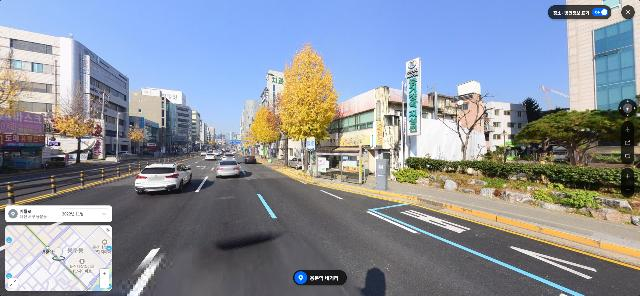ginkgo: (275, 41, 339, 172), (42, 75, 115, 163), (0, 43, 38, 170), (250, 100, 284, 160), (274, 82, 296, 166), (128, 123, 148, 155), (244, 128, 253, 152)
other: (515, 109, 640, 167), (430, 81, 495, 162)
